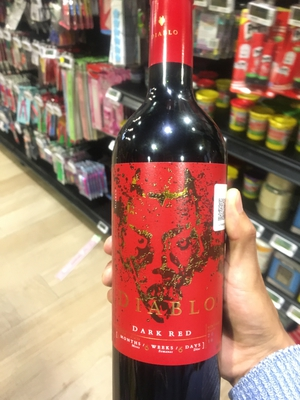diablo dark red: (102, 18, 245, 388)
